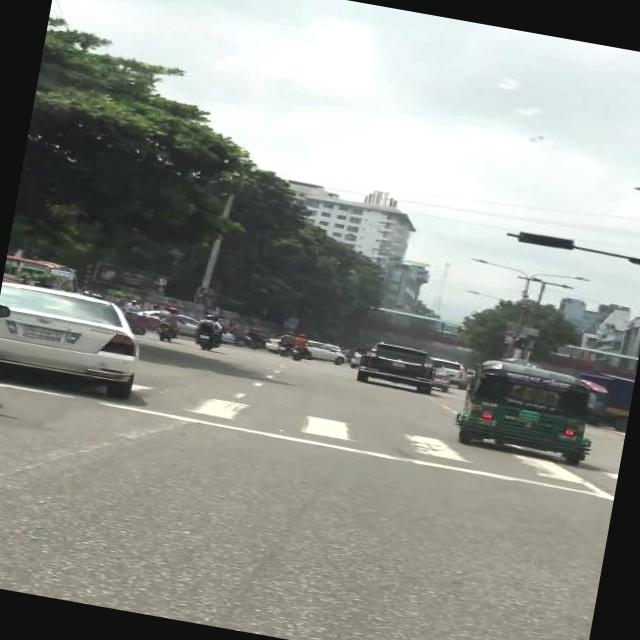car: (0, 279, 153, 404), (349, 334, 440, 394), (437, 358, 472, 390)
motorcycle: (448, 351, 604, 468), (186, 309, 226, 353), (150, 304, 187, 344), (286, 330, 310, 361), (242, 325, 270, 351), (270, 328, 292, 358)
